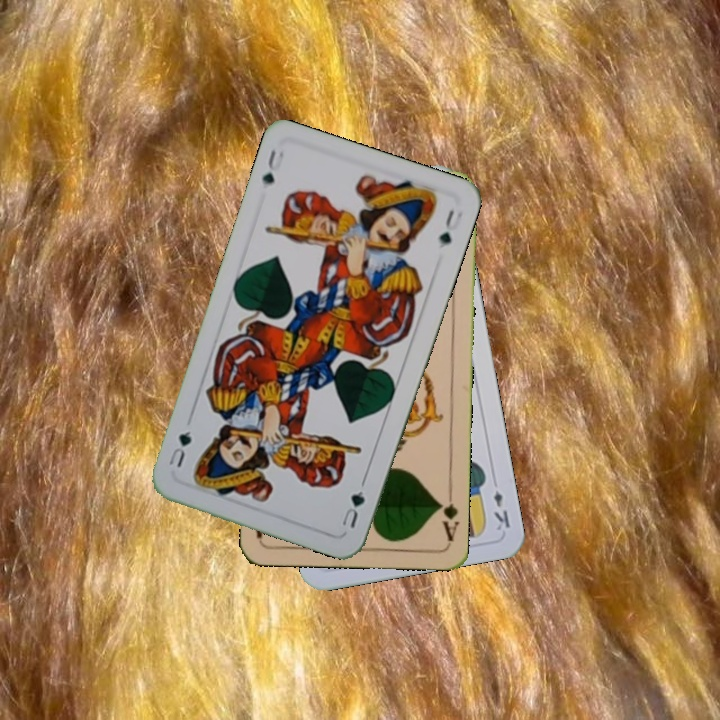EK: (489, 487, 513, 533)
GA: (434, 485, 461, 544)
GU: (337, 487, 368, 531), (258, 145, 287, 187)
